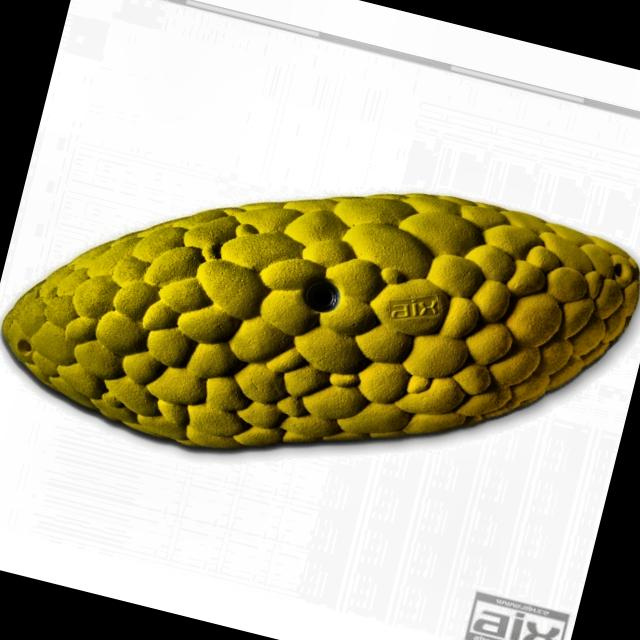Hold: (0, 94, 640, 538)
